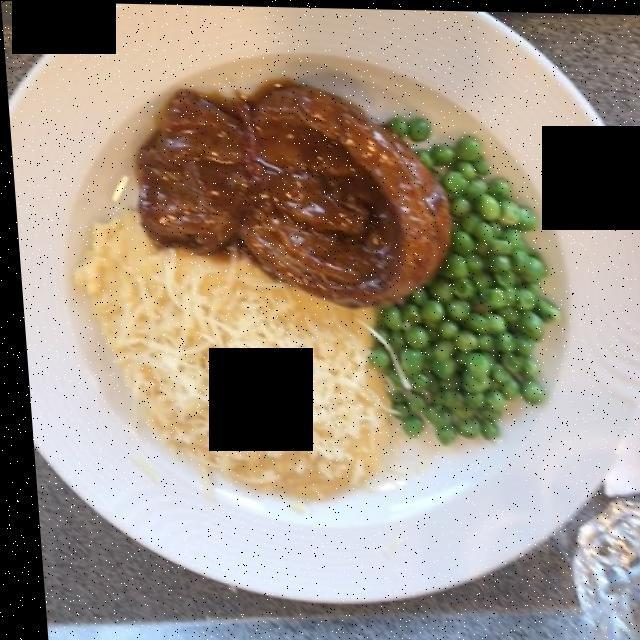gruyere: (112, 273, 367, 465)
peas: (370, 136, 551, 438)
polenta: (89, 212, 375, 498)
sauce: (191, 116, 375, 200)
